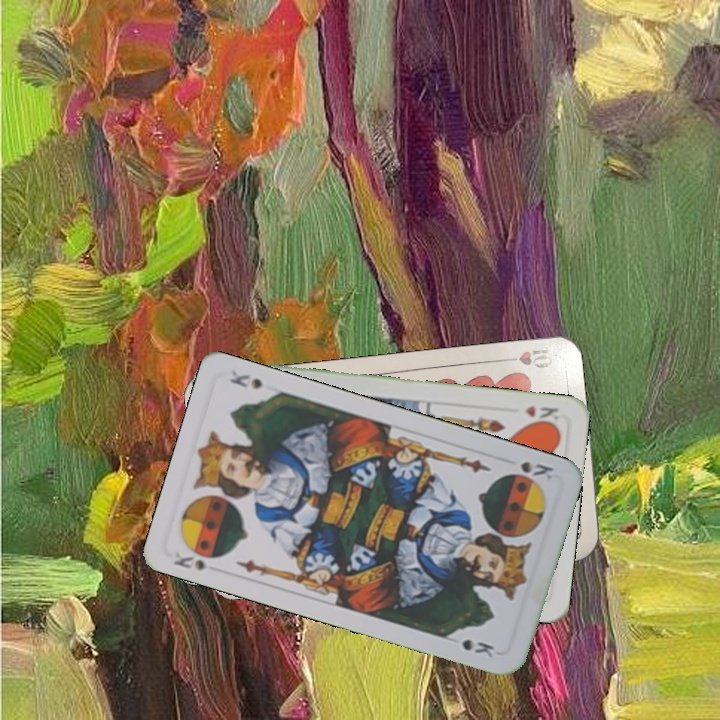H10: (496, 343, 556, 371)
HK: (521, 401, 561, 428)
SK: (169, 543, 224, 573), (516, 457, 558, 483)
